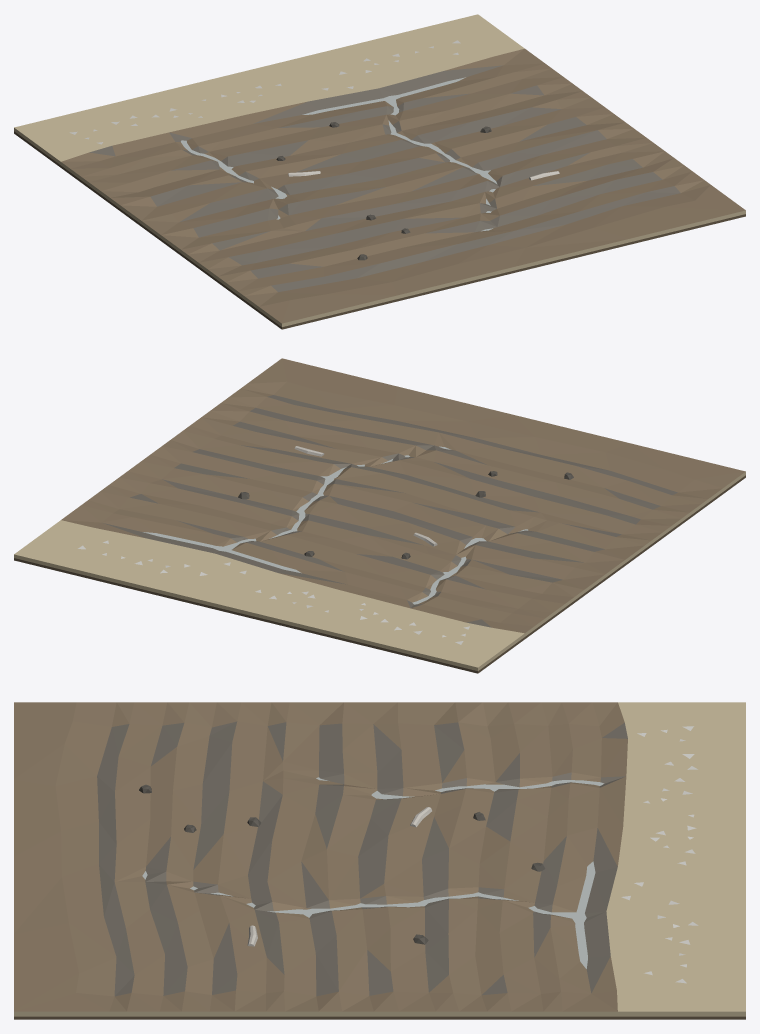
File: wet-packed-sand-tile-913ddb.glb
The picture shows the model from 3 angles, top to bottom: view 1: azimuth 30°, elevation 25°; view 2: azimuth 150°, elevation 25°; view 3: azimuth 270°, elevation 25°; orthographic projection. The views are drawn at different scales.
Parts seen in each view (by area): view 1: wet-packed-sand-tile-913ddb; view 2: wet-packed-sand-tile-913ddb; view 3: wet-packed-sand-tile-913ddb.
Boxes of the visible parts, x1,y1,x2,y2 form: wet-packed-sand-tile-913ddb: (14, 14, 745, 329); wet-packed-sand-tile-913ddb: (14, 358, 745, 673); wet-packed-sand-tile-913ddb: (14, 702, 745, 1019).
Size of the model in its own units: 4 by 0.0614 by 4.
